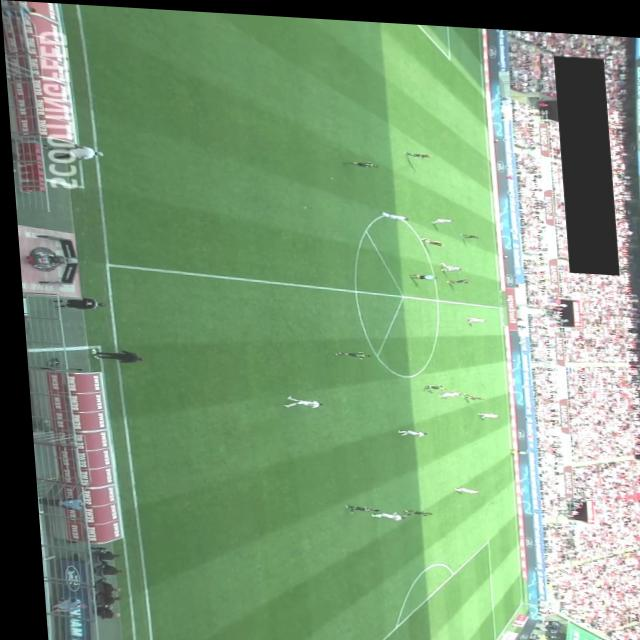player: (276, 392, 317, 406), (328, 346, 366, 356), (362, 507, 400, 517), (337, 500, 367, 510), (339, 156, 376, 164), (377, 207, 406, 217), (415, 232, 441, 241), (401, 146, 430, 154), (432, 384, 457, 393), (391, 425, 421, 432), (435, 258, 458, 267), (395, 505, 424, 512), (417, 379, 441, 387), (446, 483, 472, 490), (426, 212, 451, 219), (442, 273, 466, 280), (471, 406, 494, 413), (460, 312, 482, 319), (456, 228, 476, 234), (458, 389, 479, 394)
referee: (405, 268, 434, 276), (502, 443, 521, 450)
